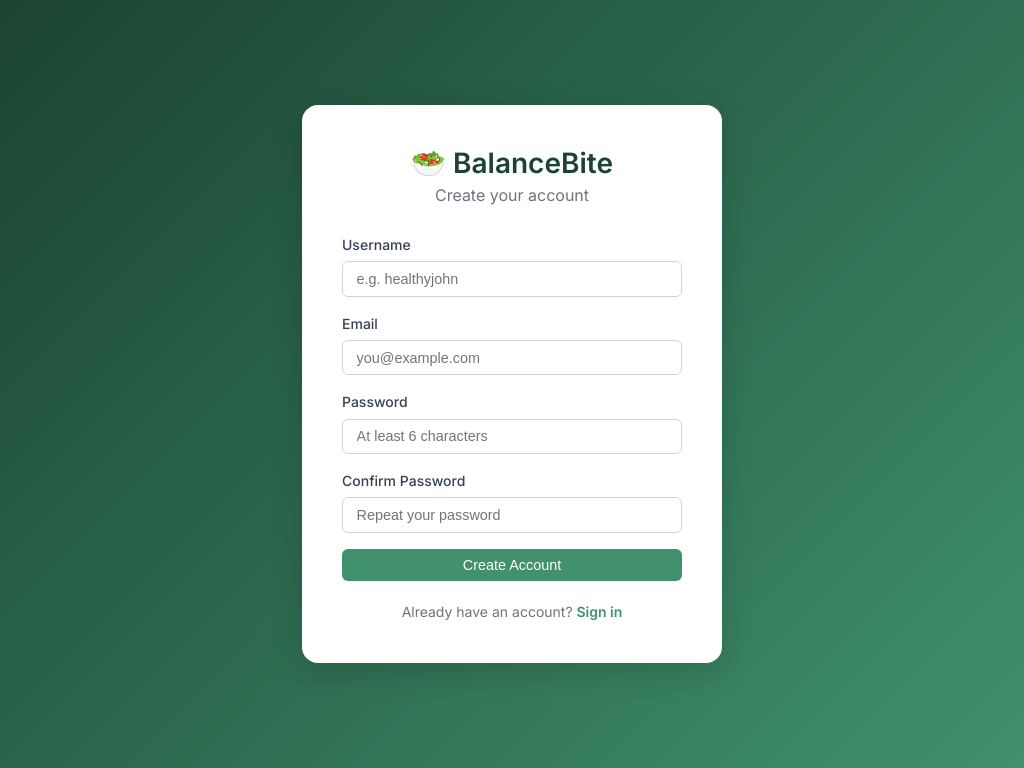
Scenario: SignUp page › shows an error when passwords do not match
The image size is (1024, 768).
Type "testuser" into the field labelled "Username" at (512, 279), box top-left (342, 261), bottom-right (682, 297)
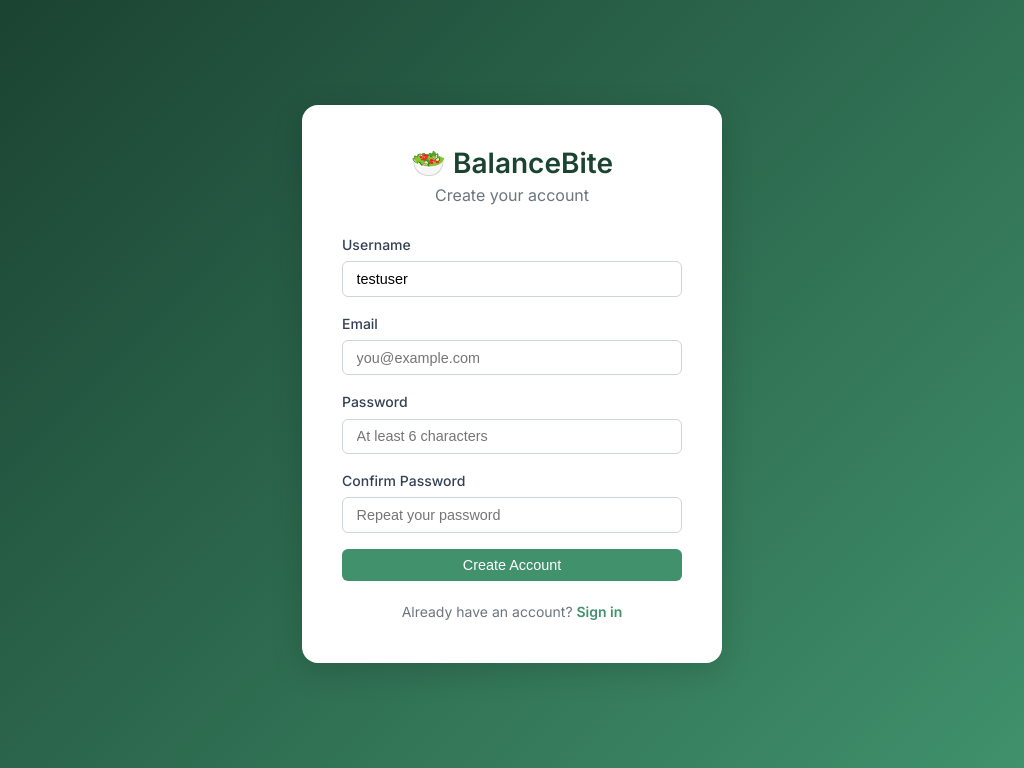
Type "user@test.com" into the field labelled "Email" at (512, 358), box top-left (342, 340), bottom-right (682, 375)
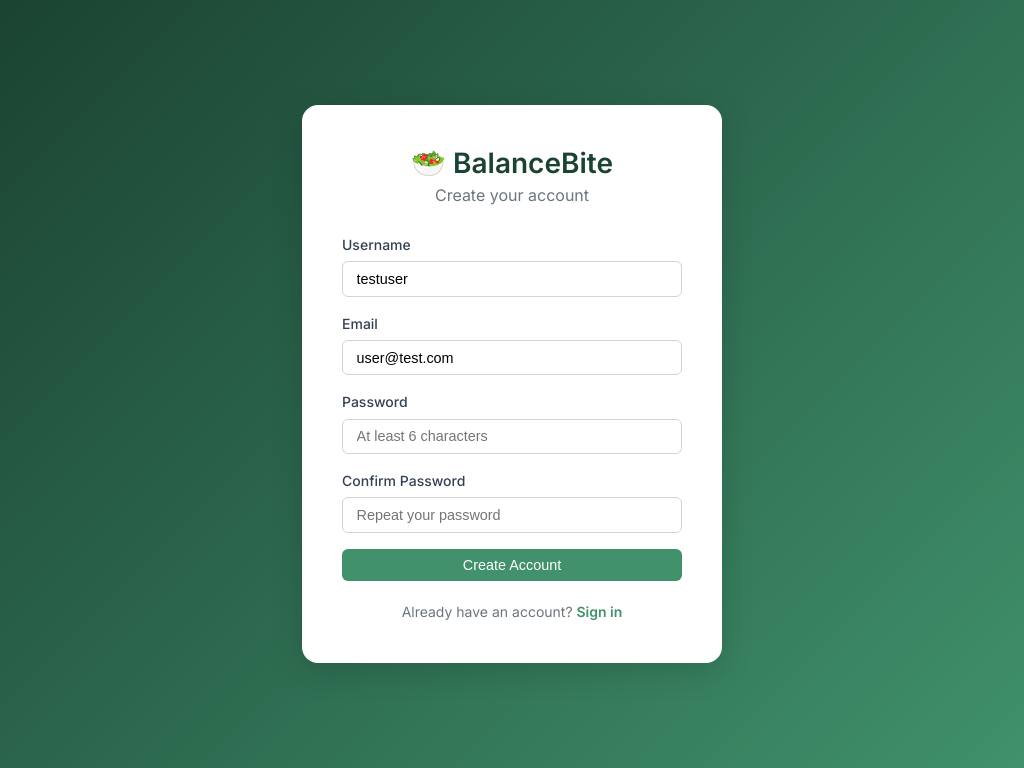
Type "password1" into the password field labelled "Password" at (512, 436), box top-left (342, 419), bottom-right (682, 454)
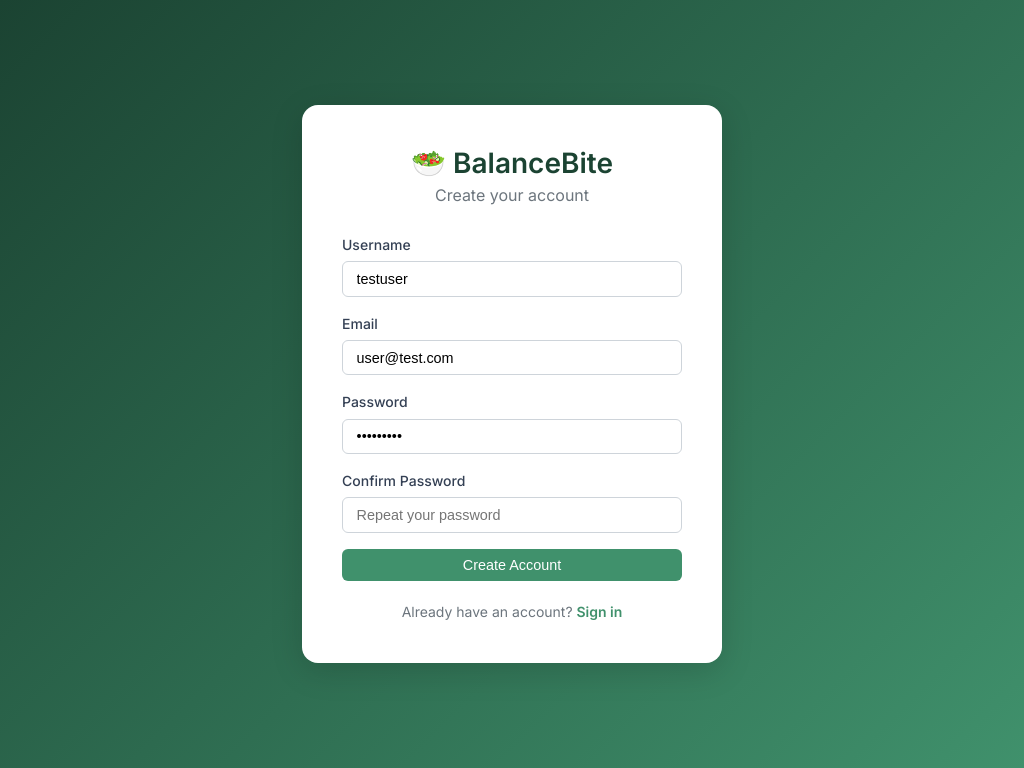
Type "password2" into the password field labelled "Confirm Password" at (512, 515), box top-left (342, 497), bottom-right (682, 533)
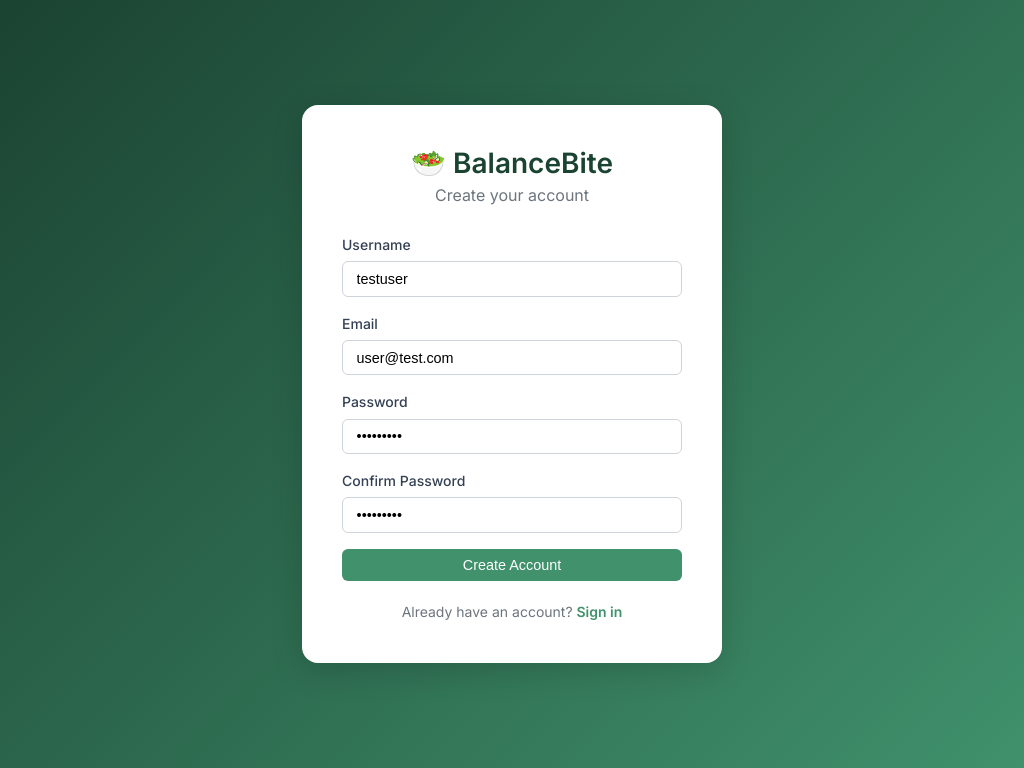
Click the button "Create Account" at (512, 565), box top-left (342, 549), bottom-right (682, 581)
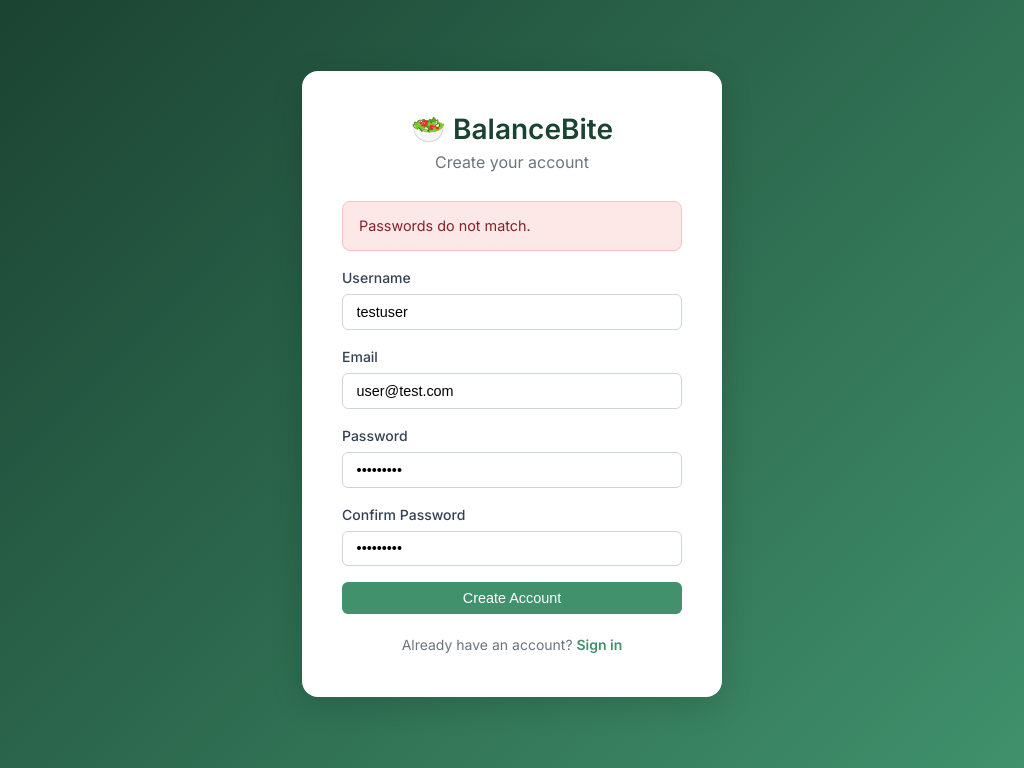
Expected: the message shows "Passwords do not match", top-left (359, 217), bottom-right (531, 234)
